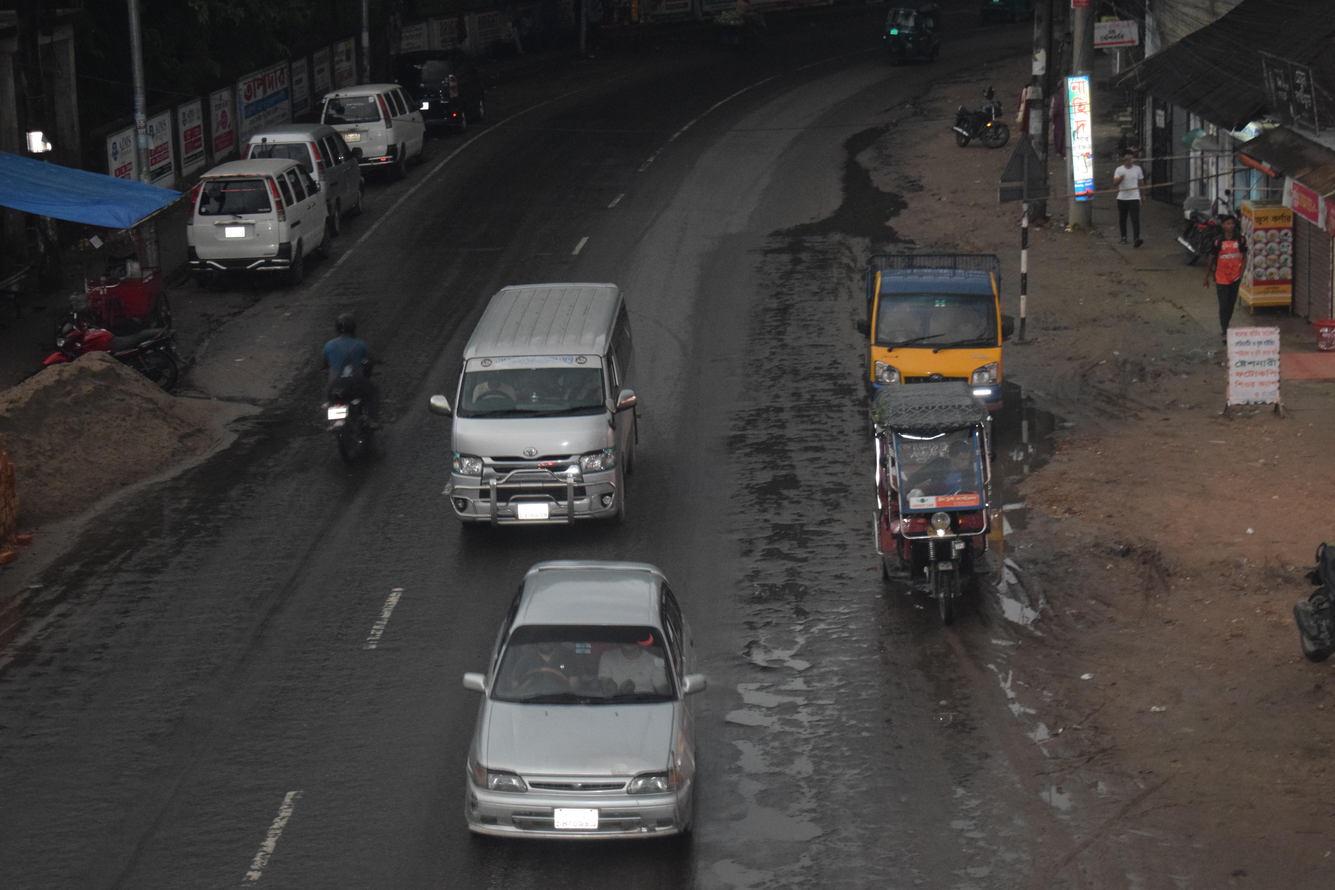Bike: (285, 281, 420, 488), (25, 303, 207, 403), (932, 82, 1033, 168)
Car: (401, 533, 748, 876), (407, 250, 709, 573), (827, 356, 1039, 634), (156, 152, 341, 300), (238, 107, 377, 235), (309, 68, 438, 199)
Truck: (822, 229, 1026, 416)
